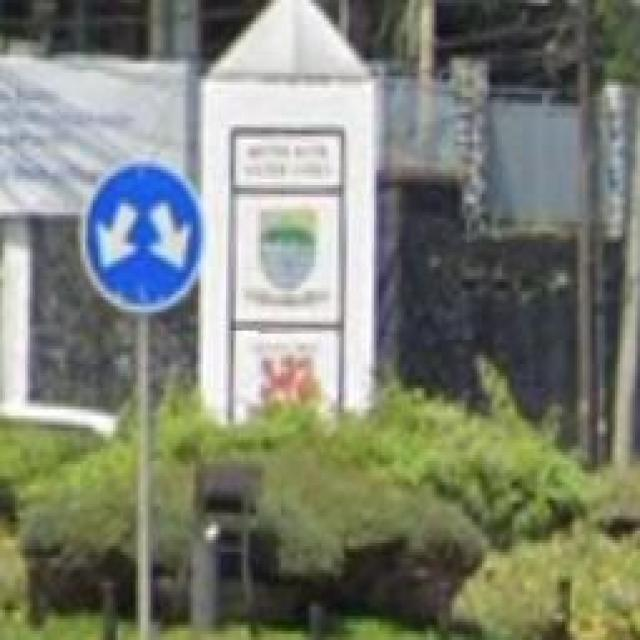traffic sign: (83, 155, 208, 319)
